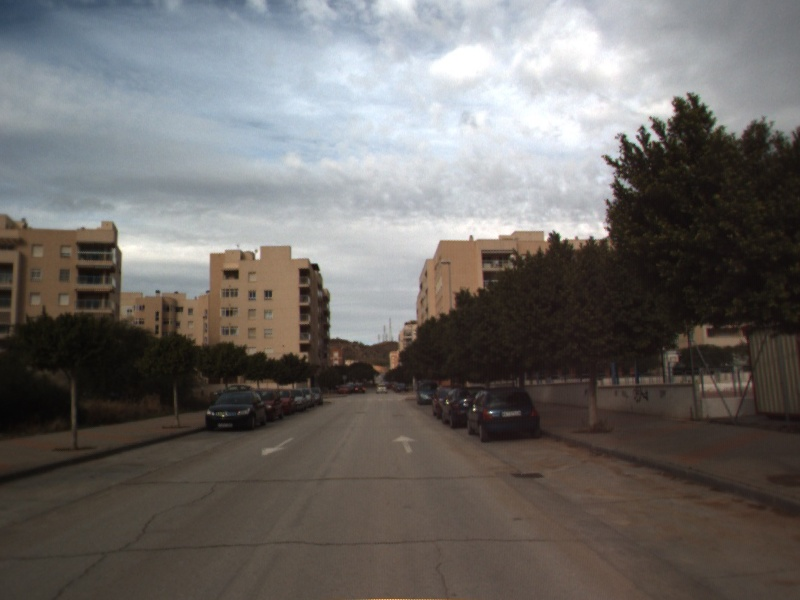STRAIGHT: (390, 433, 419, 455)
